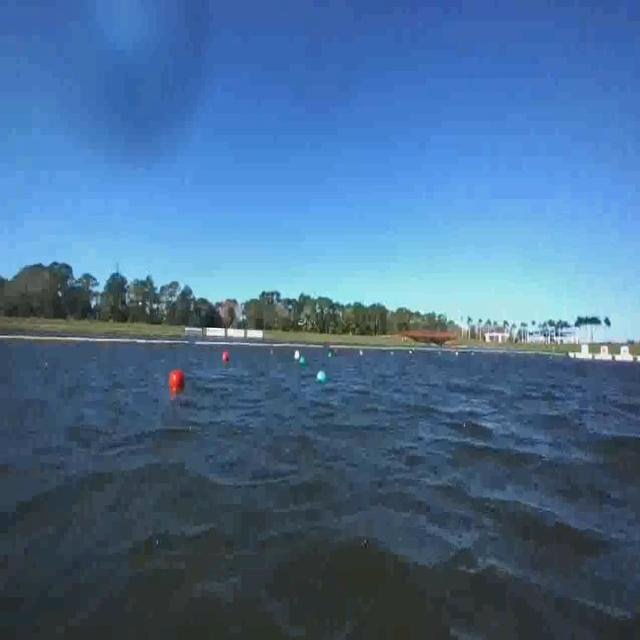green-buoy: (316, 368, 326, 382), (298, 354, 307, 369)
red-buoy: (170, 371, 184, 387)
